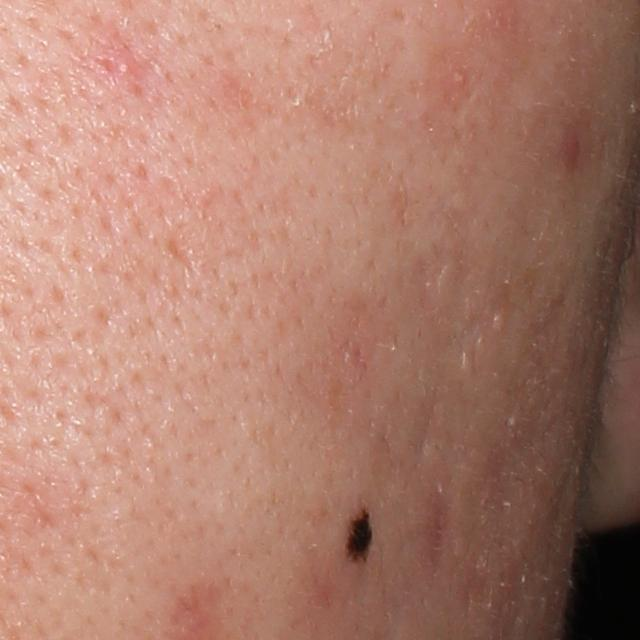atrophic_scar: (408, 387, 441, 464), (162, 229, 202, 287)
comedo: (450, 67, 468, 89)
nevus: (337, 493, 384, 575)
papule: (556, 129, 584, 168)
